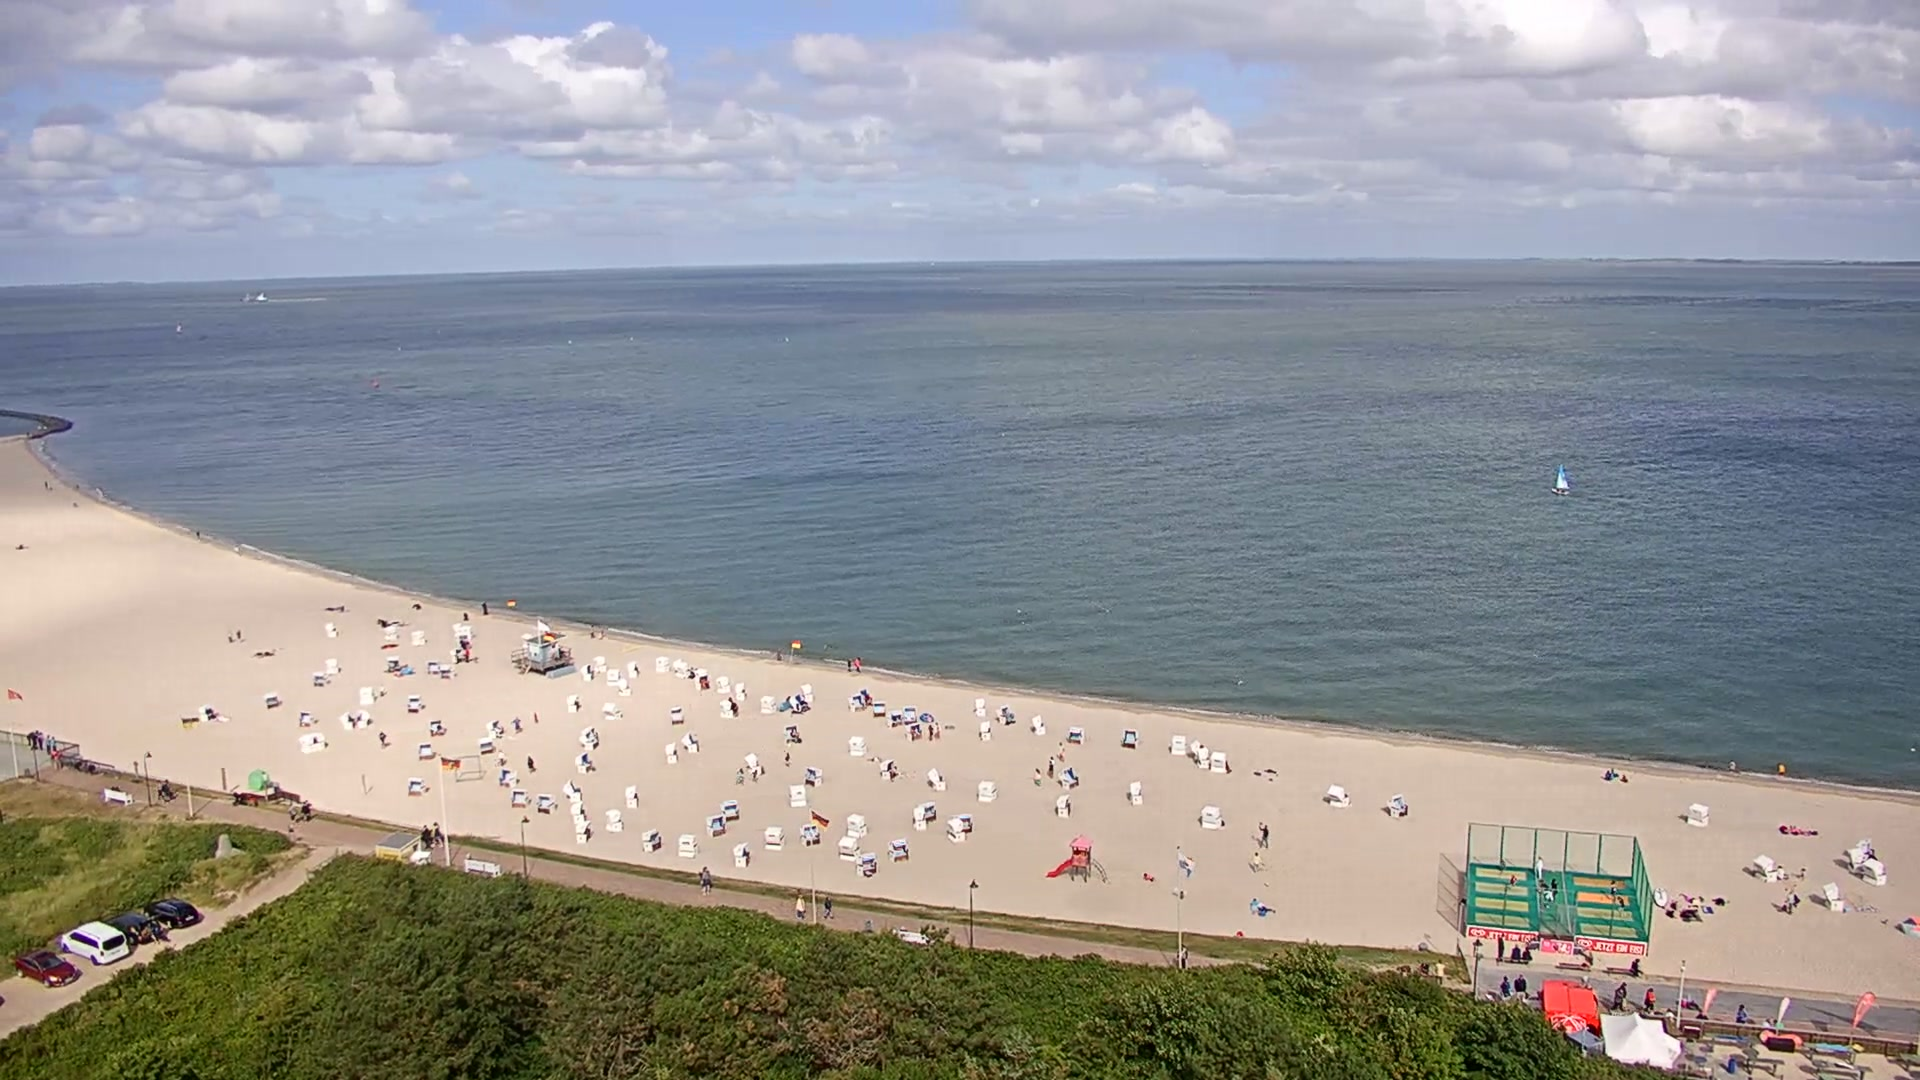human: (429, 820, 444, 848), (1434, 957, 1446, 986), (1643, 986, 1657, 1012), (700, 865, 712, 895), (1611, 985, 1624, 1012), (1616, 981, 1627, 1010), (795, 894, 807, 920), (1178, 943, 1190, 968), (1500, 974, 1512, 997), (421, 822, 431, 847), (1535, 854, 1545, 879), (1735, 1003, 1748, 1023), (1259, 822, 1269, 848), (1784, 888, 1794, 914), (699, 865, 708, 892), (301, 800, 311, 822), (1520, 944, 1531, 965), (824, 895, 833, 919), (1628, 958, 1640, 976), (1514, 973, 1526, 991), (1510, 943, 1520, 962), (1252, 851, 1260, 873), (1609, 878, 1618, 901), (1616, 894, 1625, 917), (288, 800, 297, 821), (162, 777, 172, 797), (1033, 767, 1042, 787), (511, 715, 521, 733), (1249, 897, 1258, 915), (156, 779, 163, 800), (1775, 864, 1785, 879), (497, 748, 506, 765), (1057, 740, 1066, 760), (1550, 876, 1558, 896), (46, 733, 53, 754), (1048, 755, 1055, 777), (527, 754, 535, 772), (854, 656, 862, 672), (1777, 761, 1786, 778), (378, 730, 386, 747), (462, 647, 470, 663), (1762, 1017, 1772, 1028), (1773, 1017, 1784, 1029), (38, 730, 45, 749), (32, 730, 38, 749), (1728, 759, 1737, 773), (235, 628, 242, 642), (481, 600, 489, 614), (589, 623, 596, 639), (934, 720, 940, 737), (1540, 878, 1549, 890), (50, 734, 56, 754), (847, 657, 853, 672), (784, 750, 791, 766), (1510, 873, 1517, 887), (1605, 769, 1613, 780), (26, 731, 32, 746), (928, 723, 934, 739), (226, 633, 233, 642), (1665, 1007, 1675, 1016), (196, 530, 201, 540), (75, 483, 80, 490), (462, 611, 467, 619), (44, 480, 48, 489)
land: (59, 920, 130, 965), (11, 947, 79, 989), (139, 897, 203, 928), (103, 912, 161, 944)
sea: (1550, 462, 1571, 496), (254, 290, 268, 301), (175, 321, 182, 333)
